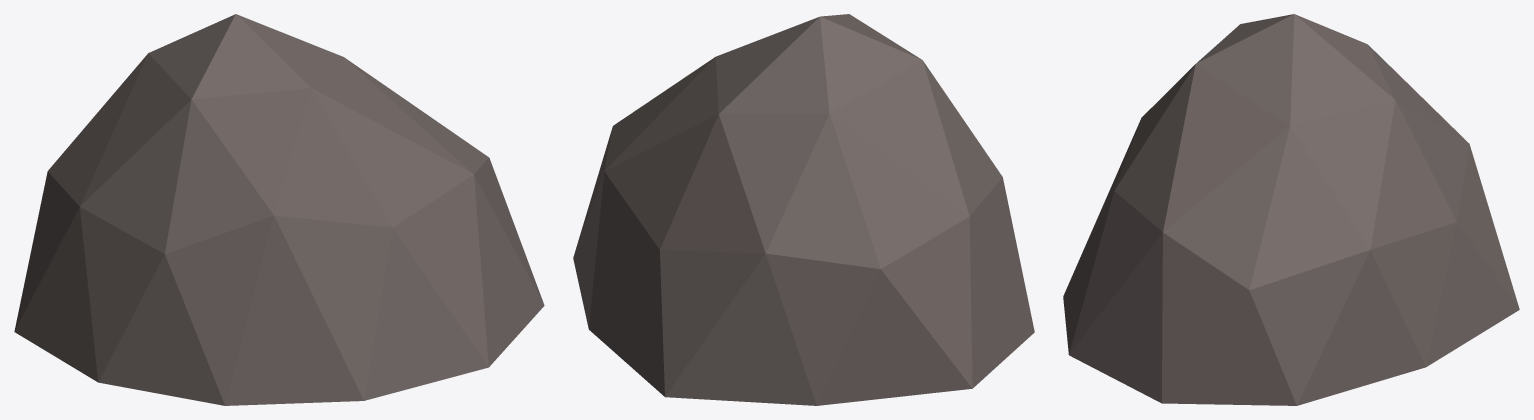
File: ForestStone(4).fbx
The picture shows the model from 3 angles, left to right: view 1: azimuth 30°, elevation 25°; view 2: azimuth 150°, elevation 25°; view 3: azimuth 270°, elevation 25°; orthographic projection. The views are drawn at different scales.
Visible parts, largest first — view 1: Stone(4); view 2: Stone(4); view 3: Stone(4).
Boxes of the visible parts, bbox=[...] form: Stone(4): bbox=[14, 14, 544, 405]; Stone(4): bbox=[573, 14, 1034, 405]; Stone(4): bbox=[1063, 14, 1519, 405].
Bounding box in the file's own units: 1.04 × 0.6873 × 1.02.
